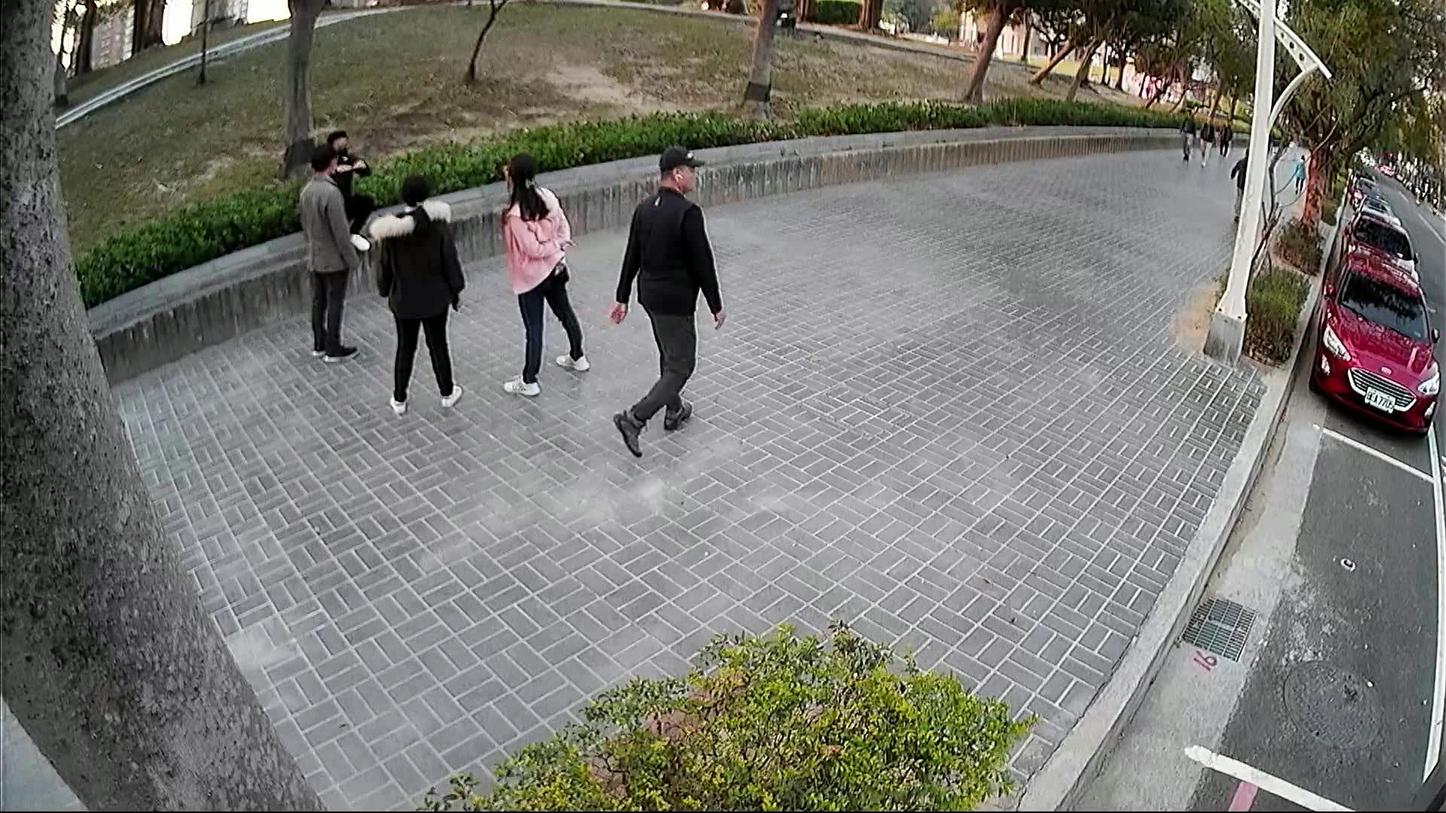person: (604, 138, 730, 460), (361, 171, 470, 417), (492, 146, 593, 398), (292, 137, 367, 365), (322, 125, 377, 249), (1226, 143, 1249, 224), (1194, 111, 1218, 167), (1178, 108, 1197, 162), (1292, 147, 1308, 199), (1216, 113, 1232, 160)
